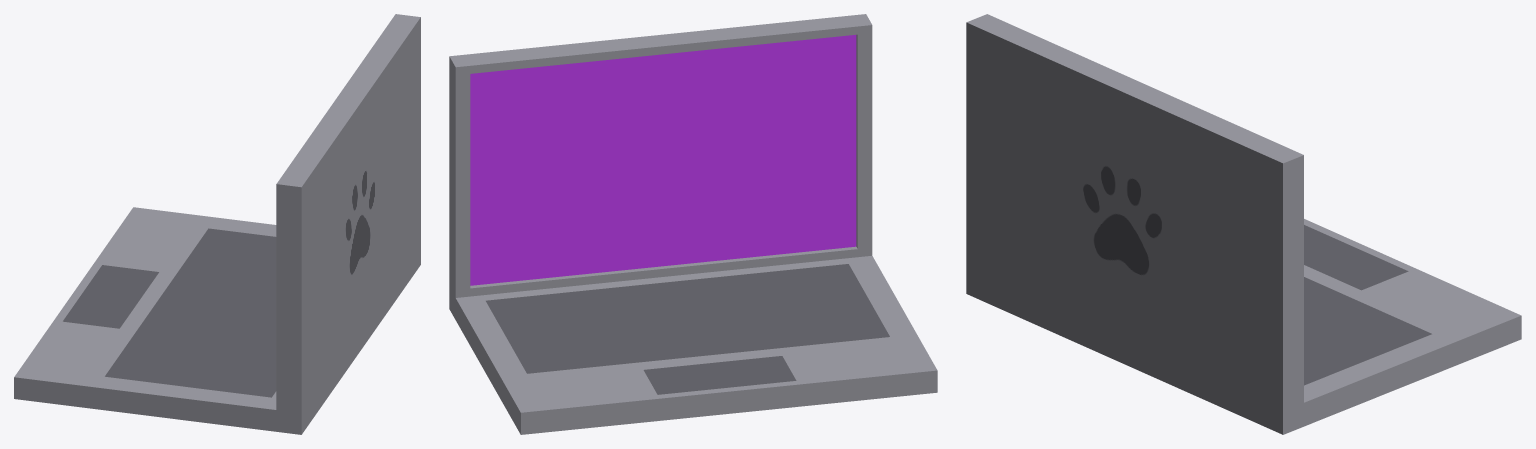
File: Laptop_1-WarRoom.glb
3 renders of one model, left to right at view 1: azimuth 30°, elevation 25°; view 2: azimuth 150°, elevation 25°; view 3: azimuth 270°, elevation 25°, orthographic. The views are drawn at different scales.
Parts seen in each view (by area): view 1: Laptop; view 2: Laptop; view 3: Laptop.
Boxes of the visible parts, left/top/right/bottom form: Laptop: left=14, top=14, right=420, bottom=434; Laptop: left=449, top=14, right=937, bottom=434; Laptop: left=966, top=14, right=1521, bottom=434.
Size of the model in its own units: 0.5483 by 0.2933 by 0.5435.
1 material, 1 textured.
